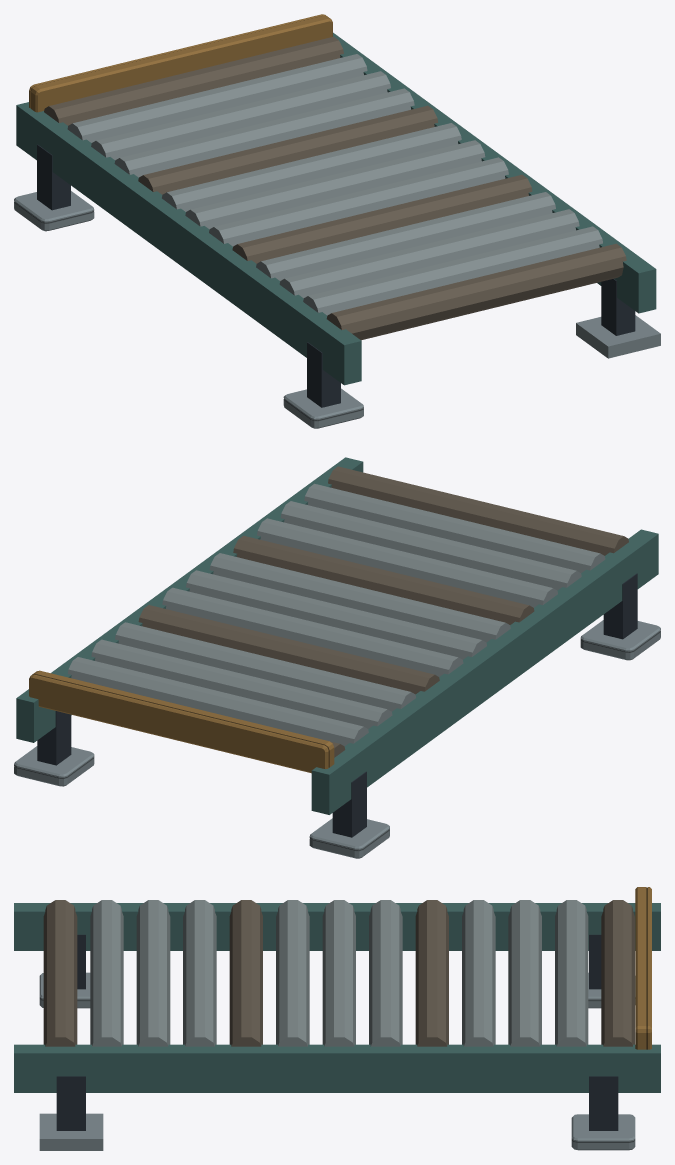
Rendered from HD-01_transfer_rollers.glb.
The picture shows the model from 3 angles, top to bottom: view 1: azimuth 30°, elevation 25°; view 2: azimuth 150°, elevation 25°; view 3: azimuth 270°, elevation 25°; orthographic projection.
Parts seen in each view (by area): view 1: HD-01_transfer_rollers; view 2: HD-01_transfer_rollers; view 3: HD-01_transfer_rollers.
Boxes of the visible parts, <box> form: HD-01_transfer_rollers: <box>14,14,660,428</box>; HD-01_transfer_rollers: <box>14,457,660,858</box>; HD-01_transfer_rollers: <box>14,887,660,1150</box>.
Size of the model in its own units: 2.17 by 0.67 by 3.55.
